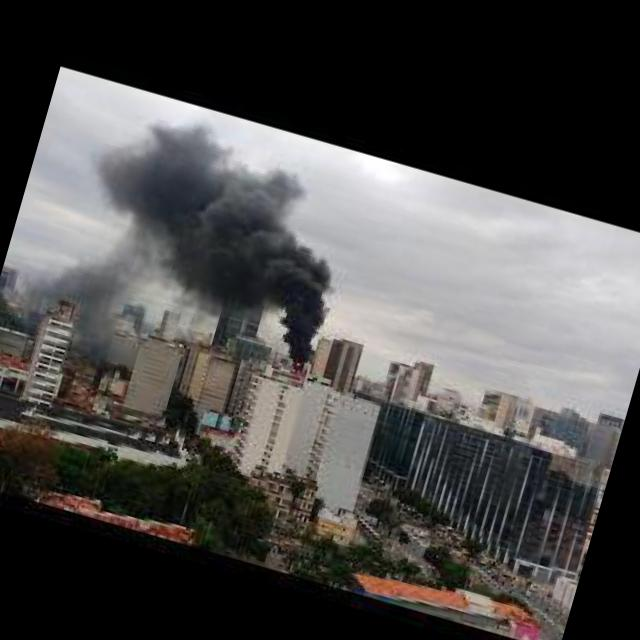fire: (291, 362, 303, 376)
smoke: (54, 97, 371, 361)
